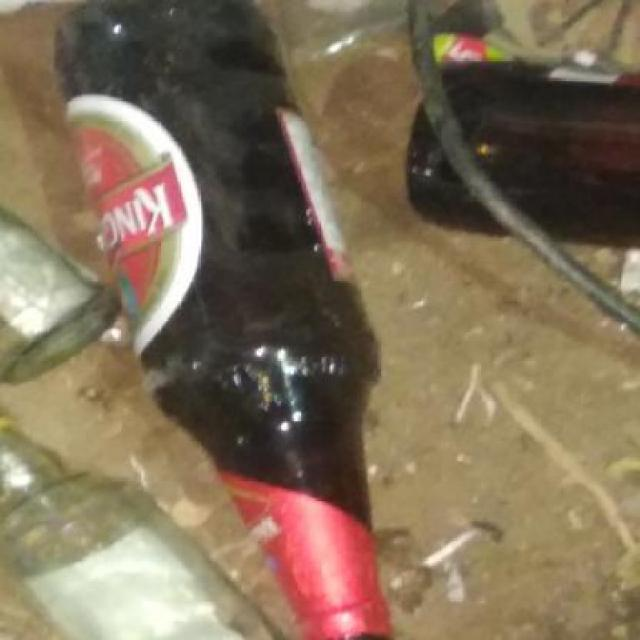garbage: (7, 17, 640, 628)
